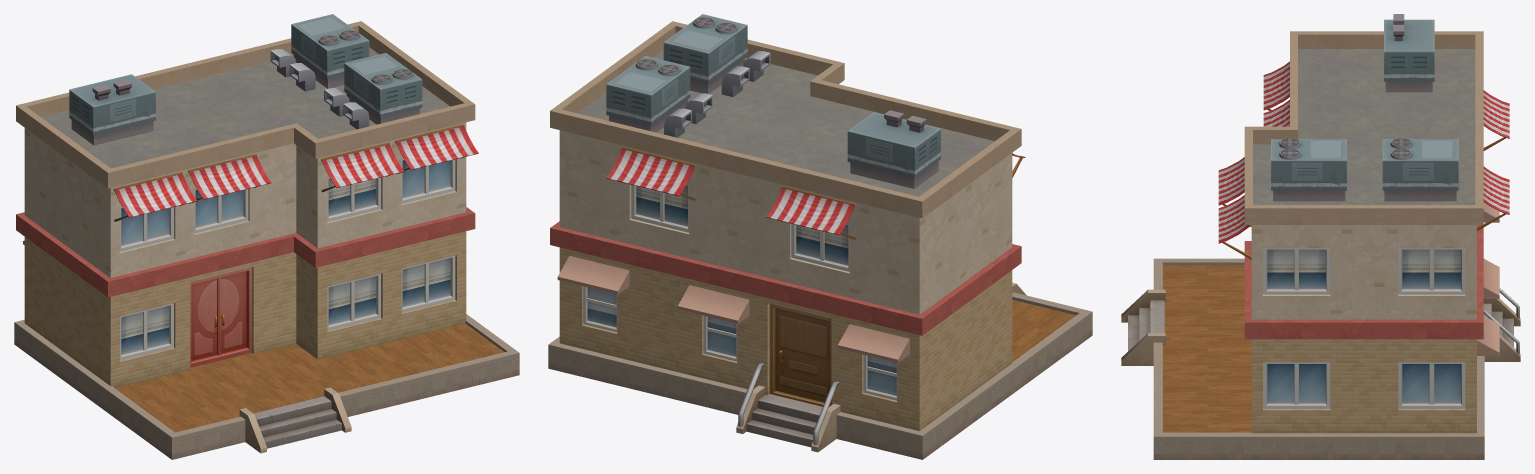
Rendered from Building_2-transformed.glb.
3 views of the same model, side by side, from view 1: azimuth 30°, elevation 25°; view 2: azimuth 150°, elevation 25°; view 3: azimuth 270°, elevation 25° (orthographic). The views are drawn at different scales.
Parts seen in each view (by area): view 1: Building_2_Roof; view 2: Building_2_Roof; view 3: Building_2_Roof.
Boxes of the visible parts, bbox=[...] form: Building_2_Roof: bbox=[14, 14, 519, 459]; Building_2_Roof: bbox=[548, 14, 1092, 459]; Building_2_Roof: bbox=[1121, 14, 1520, 459].
Size of the model in its own units: 9.35 by 7.07 by 8.87.
13 materials, 13 textured.
